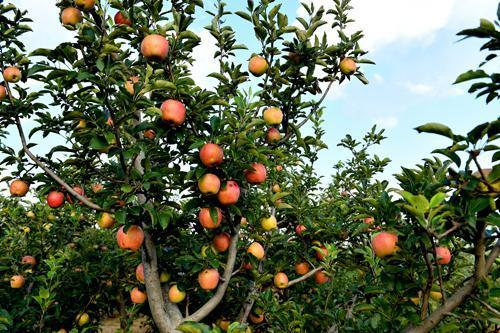apple: (115, 224, 145, 251), (141, 33, 169, 61), (160, 98, 186, 126), (372, 231, 398, 257), (199, 142, 223, 165), (199, 172, 220, 195), (219, 180, 240, 203), (248, 55, 269, 76), (247, 162, 266, 183), (5, 81, 25, 100), (62, 7, 82, 25), (433, 245, 451, 264), (47, 190, 65, 209), (339, 56, 356, 75), (3, 66, 21, 83), (265, 126, 281, 142), (10, 274, 25, 288), (1, 82, 9, 100), (143, 128, 156, 139)
